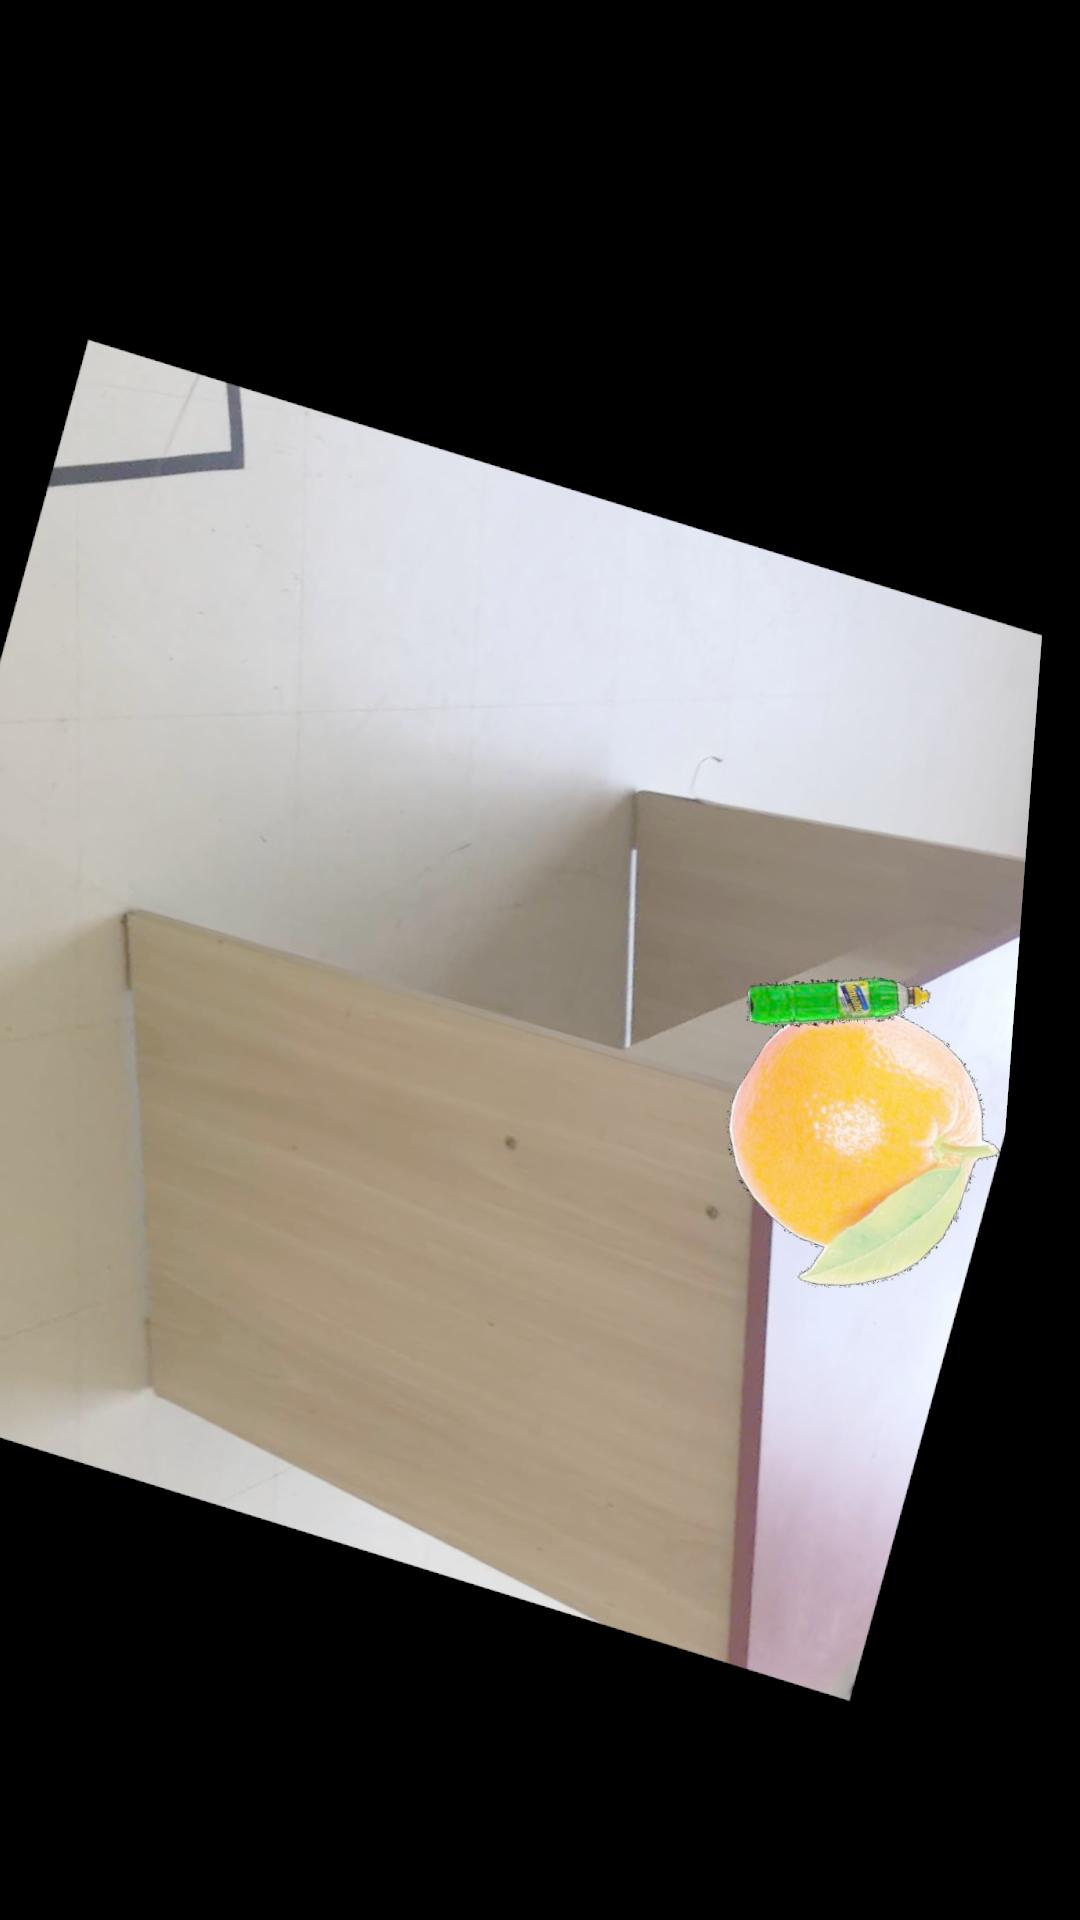cleaner: (764, 952, 947, 1006)
orange: (746, 990, 1017, 1262)
